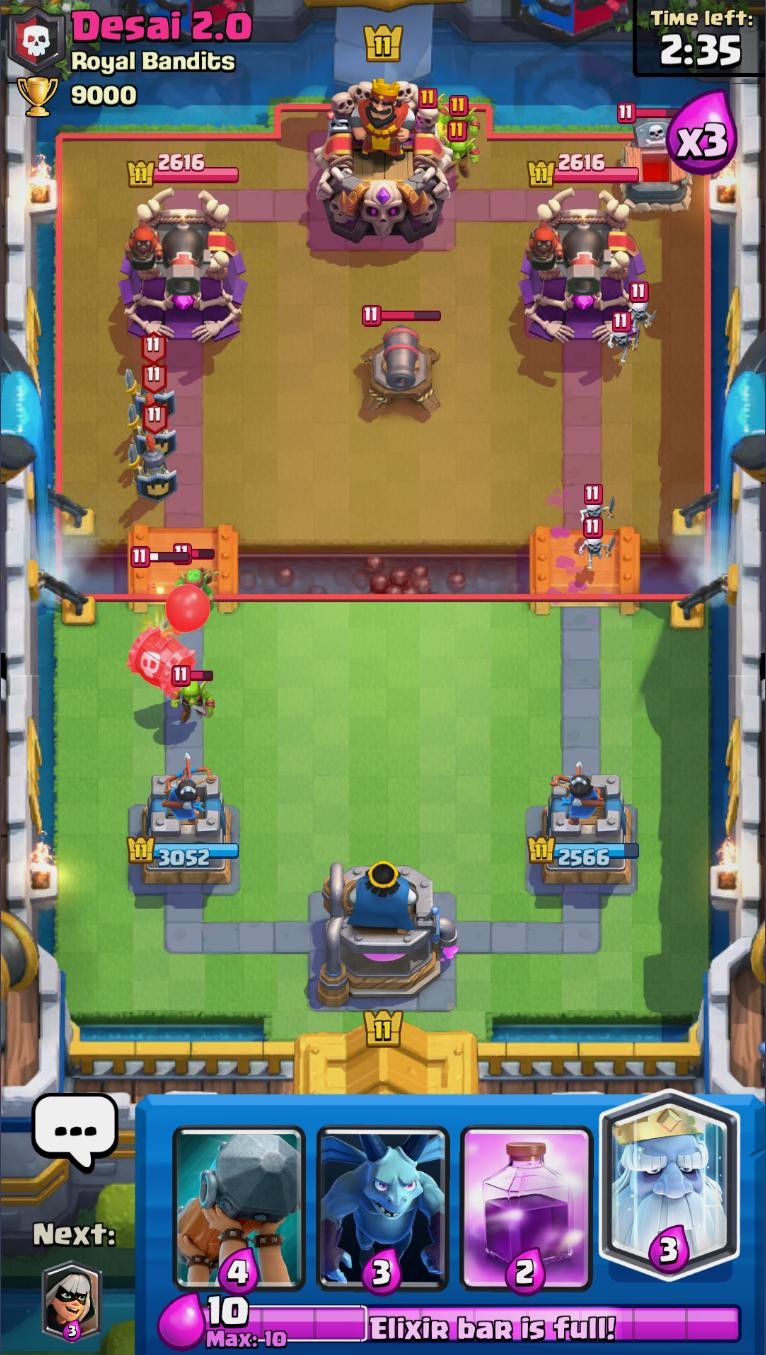BanditNext: (41, 1261, 101, 1346)
BattleRamDeck: (167, 1094, 313, 1294)
Cannon: (359, 303, 444, 419)
Cannoneer: (524, 214, 609, 300), (127, 216, 207, 300)
Elixir: (203, 1296, 743, 1346)
EnemyTower: (121, 187, 250, 343), (520, 189, 650, 343)
Goblin: (171, 663, 214, 729), (443, 119, 480, 179), (441, 93, 479, 136)
Guards: (127, 403, 176, 503), (127, 364, 179, 437), (123, 334, 176, 401)
KingTower: (314, 77, 456, 246)
MinionsDeck: (310, 1094, 456, 1299)
MyKingTower: (319, 860, 457, 1011)
MyPrincessTower: (527, 774, 641, 890), (127, 776, 241, 890)
MyPrincessTowerHP: (127, 833, 241, 869), (526, 836, 641, 869)
RageDeck: (456, 1096, 597, 1293)
RoyaleGhostDeck: (596, 1096, 741, 1293)
Skeleton: (579, 516, 617, 567), (607, 311, 639, 363), (626, 283, 659, 331), (579, 483, 617, 524)
SkeletonBarrel: (124, 544, 211, 693)
SpearGoblin: (170, 540, 219, 600)
Tombstone: (616, 103, 694, 214)
TowerPrincessHP: (129, 153, 241, 189), (529, 153, 640, 189)
